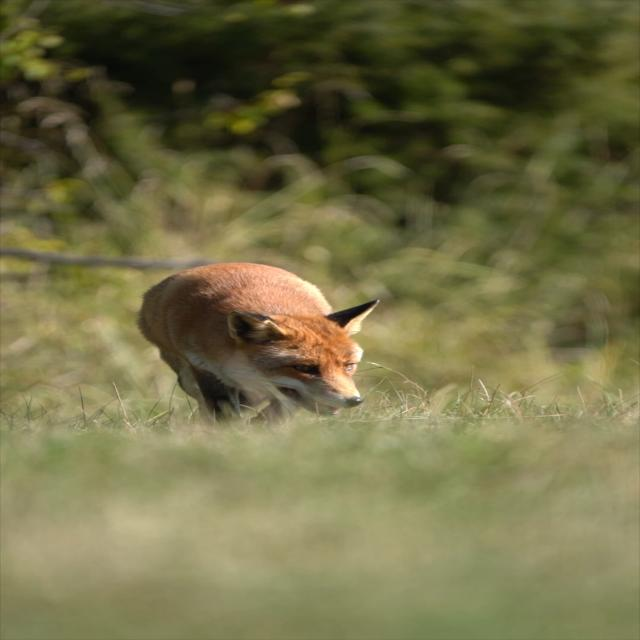fox: (102, 254, 406, 439)
